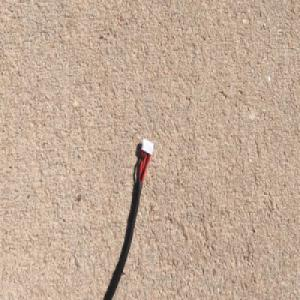Wire: (96, 135, 155, 300)
